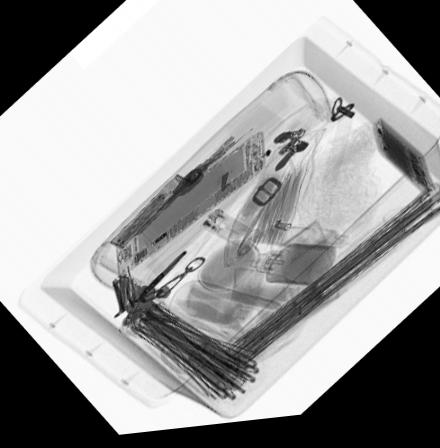Lighter: (197, 210, 252, 251)
